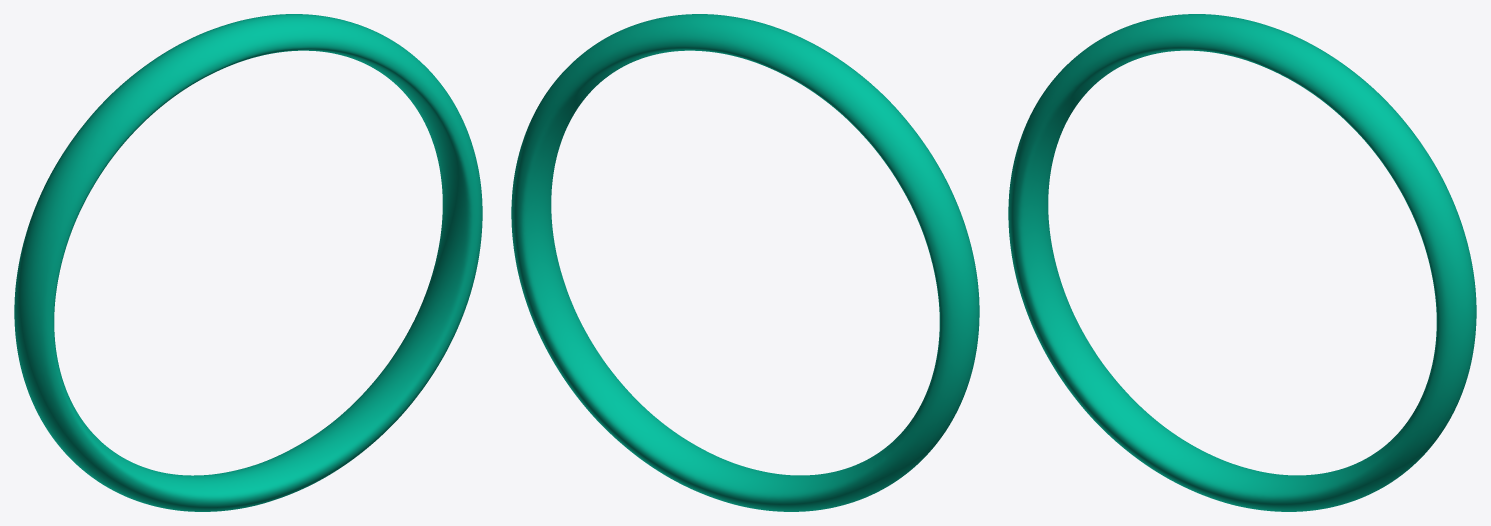
The model's file is BE2122_RENDER.glb.
3 renders of one model, left to right at view 1: azimuth 30°, elevation 25°; view 2: azimuth 150°, elevation 25°; view 3: azimuth 330°, elevation 25°, orthographic.
Parts seen in each view (by area): view 1: Metal03; view 2: Metal03; view 3: Metal03.
Part boxes in pixels (left/top/right/bottom): Metal03: left=14, top=14, right=482, bottom=511; Metal03: left=511, top=14, right=979, bottom=511; Metal03: left=1008, top=14, right=1476, bottom=511.
Size of the model in its own units: 18.89 by 18.87 by 1.99.
